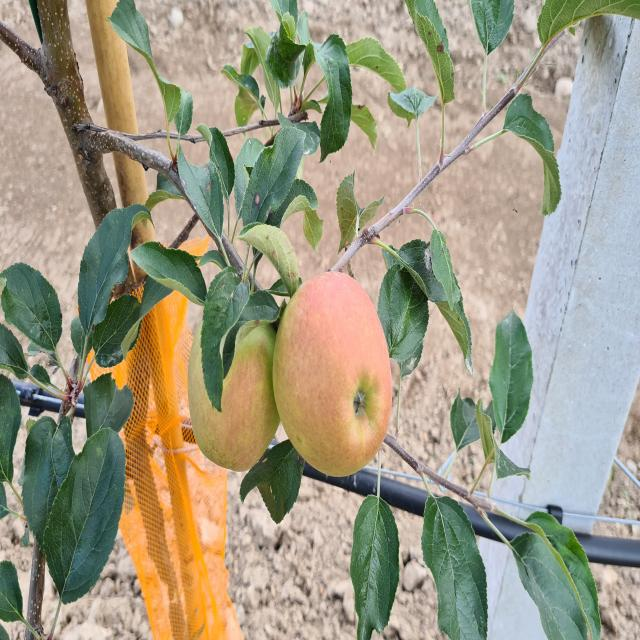Apple: (272, 271, 392, 476), (188, 322, 280, 471)
